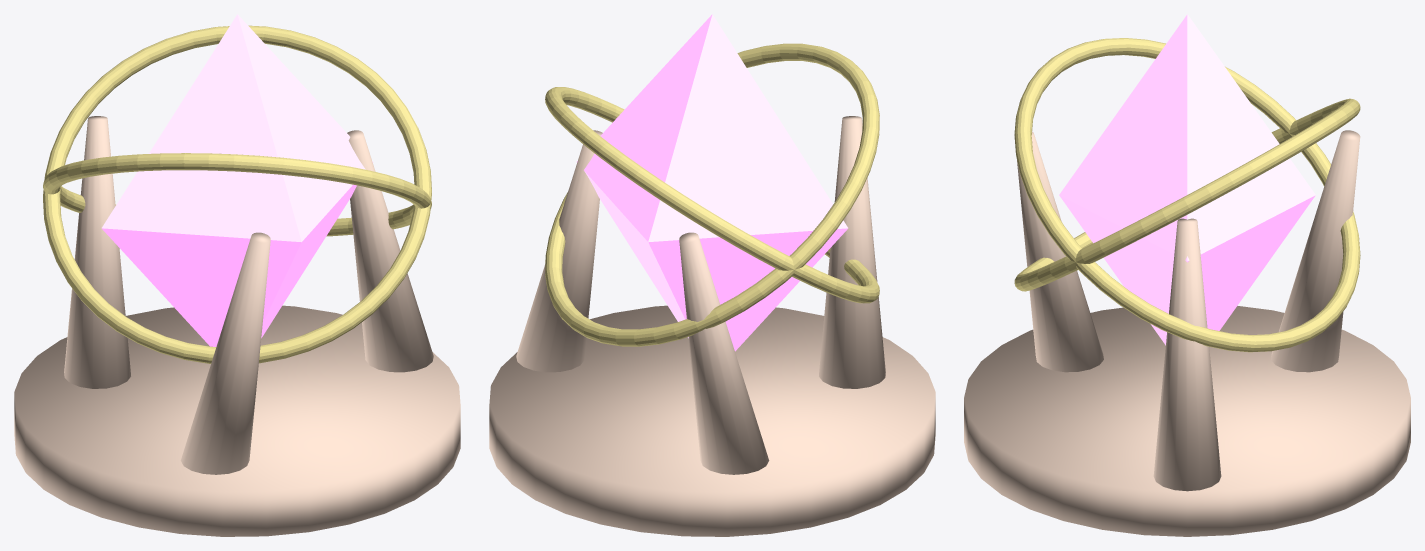
Rendered from Overshield_Power_Core.glb.
The picture shows the model from 3 angles, left to right: view 1: azimuth 30°, elevation 25°; view 2: azimuth 150°, elevation 25°; view 3: azimuth 270°, elevation 25°; orthographic projection.
Parts seen in each view (by area): view 1: GEO-overshield_base, GEO-overshield_crystal_core, GEO-overshield_halo_1, GEO-overshield_wing_prong_2, GEO-overshield_wing_prong_1, GEO-overshield_wing_prong_0, GEO-overshield_halo_0; view 2: GEO-overshield_base, GEO-overshield_crystal_core, GEO-overshield_halo_0, GEO-overshield_wing_prong_1, GEO-overshield_wing_prong_2, GEO-overshield_halo_1, GEO-overshield_wing_prong_0; view 3: GEO-overshield_base, GEO-overshield_crystal_core, GEO-overshield_halo_0, GEO-overshield_wing_prong_0, GEO-overshield_wing_prong_1, GEO-overshield_halo_1, GEO-overshield_wing_prong_2.
Boxes of the visible parts, <box> form: GEO-overshield_base: <box>14,305,460,536</box>; GEO-overshield_crystal_core: <box>101,14,373,346</box>; GEO-overshield_halo_1: <box>43,25,431,363</box>; GEO-overshield_wing_prong_2: <box>180,232,270,474</box>; GEO-overshield_wing_prong_1: <box>64,116,130,388</box>; GEO-overshield_wing_prong_0: <box>347,130,433,372</box>; GEO-overshield_halo_0: <box>43,153,431,236</box>; GEO-overshield_base: <box>489,305,935,536</box>; GEO-overshield_crystal_core: <box>576,14,848,351</box>; GEO-overshield_halo_0: <box>545,43,879,346</box>; GEO-overshield_wing_prong_1: <box>679,232,769,474</box>; GEO-overshield_wing_prong_2: <box>819,116,885,388</box>; GEO-overshield_halo_1: <box>545,87,879,303</box>; GEO-overshield_wing_prong_0: <box>516,130,602,372</box>; GEO-overshield_base: <box>964,306,1410,536</box>; GEO-overshield_crystal_core: <box>1059,14,1315,345</box>; GEO-overshield_halo_0: <box>1014,38,1360,352</box>; GEO-overshield_wing_prong_0: <box>1153,218,1221,491</box>; GEO-overshield_wing_prong_1: <box>1271,130,1360,372</box>; GEO-overshield_halo_1: <box>1014,98,1360,291</box>; GEO-overshield_wing_prong_2: <box>1017,131,1103,372</box>.
Bounding box in the file's own units: 0.36 × 0.381 × 0.36.
